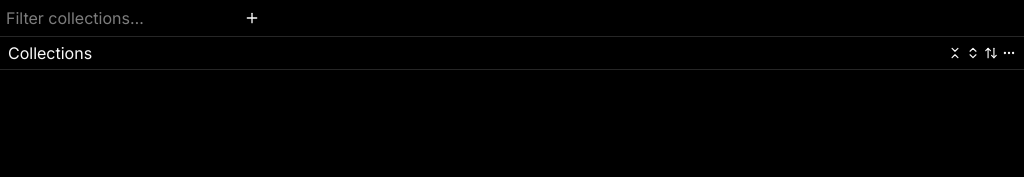
Test: SidebarShell › offers Export and Import in the collections-panel actions menu
Click the button named "collection actions" at {"x": 1009, "y": 53}, box [1002,46,1016,60]
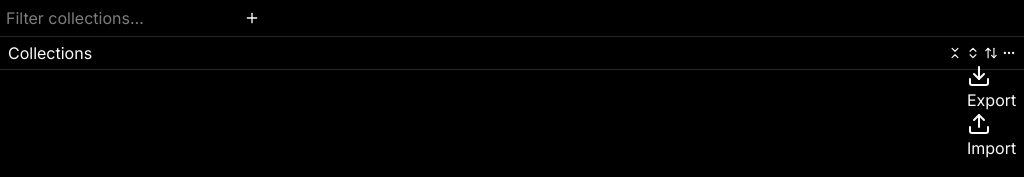
Result: the menu item "Export" is shown at [967,64,1016,112]
Result: the menu item "Import" is shown at [967,112,1016,160]
